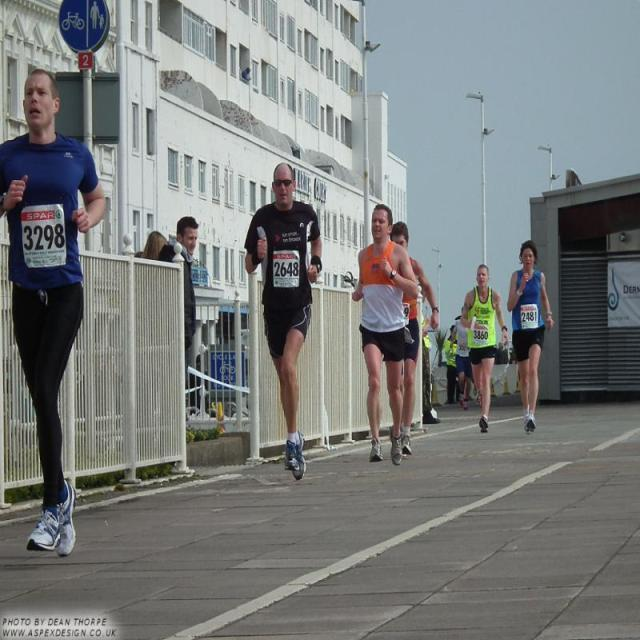dorsal: (15, 202, 70, 272), (266, 246, 305, 293), (516, 298, 541, 333), (468, 324, 492, 347)
